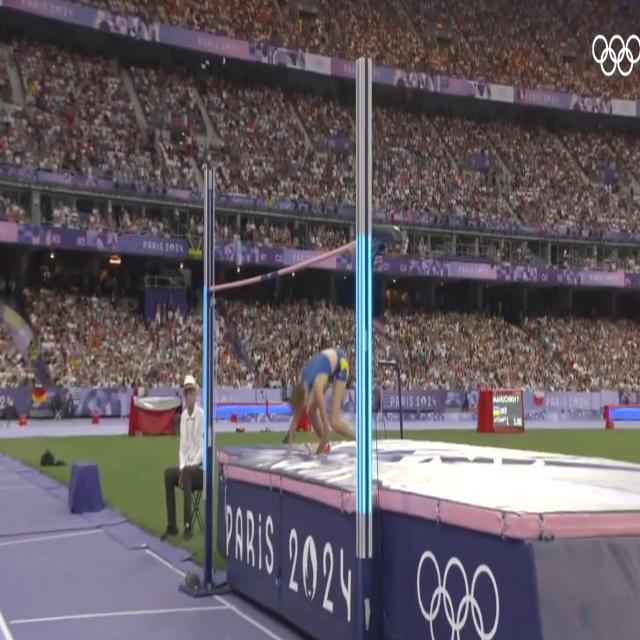land: (282, 347, 358, 460)
